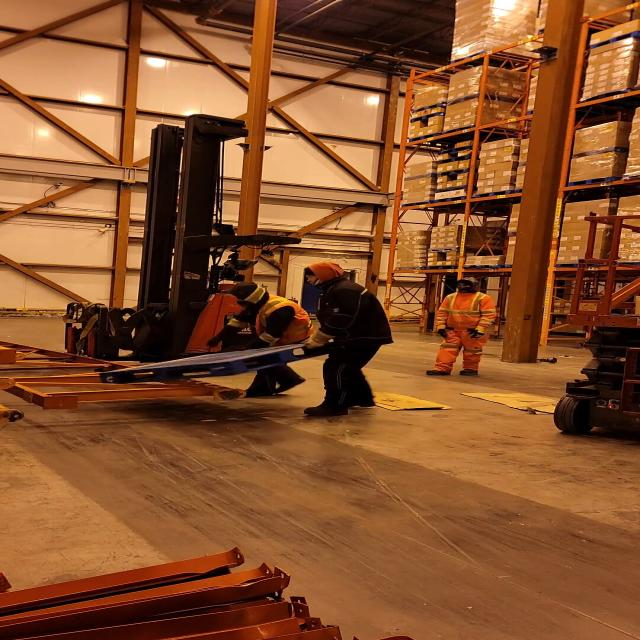forklift: (54, 122, 301, 384)
human: (288, 262, 399, 420), (202, 274, 318, 402), (423, 273, 511, 382)
objectofinterest: (0, 340, 252, 411), (98, 341, 360, 387), (460, 389, 585, 416), (335, 391, 453, 413)
